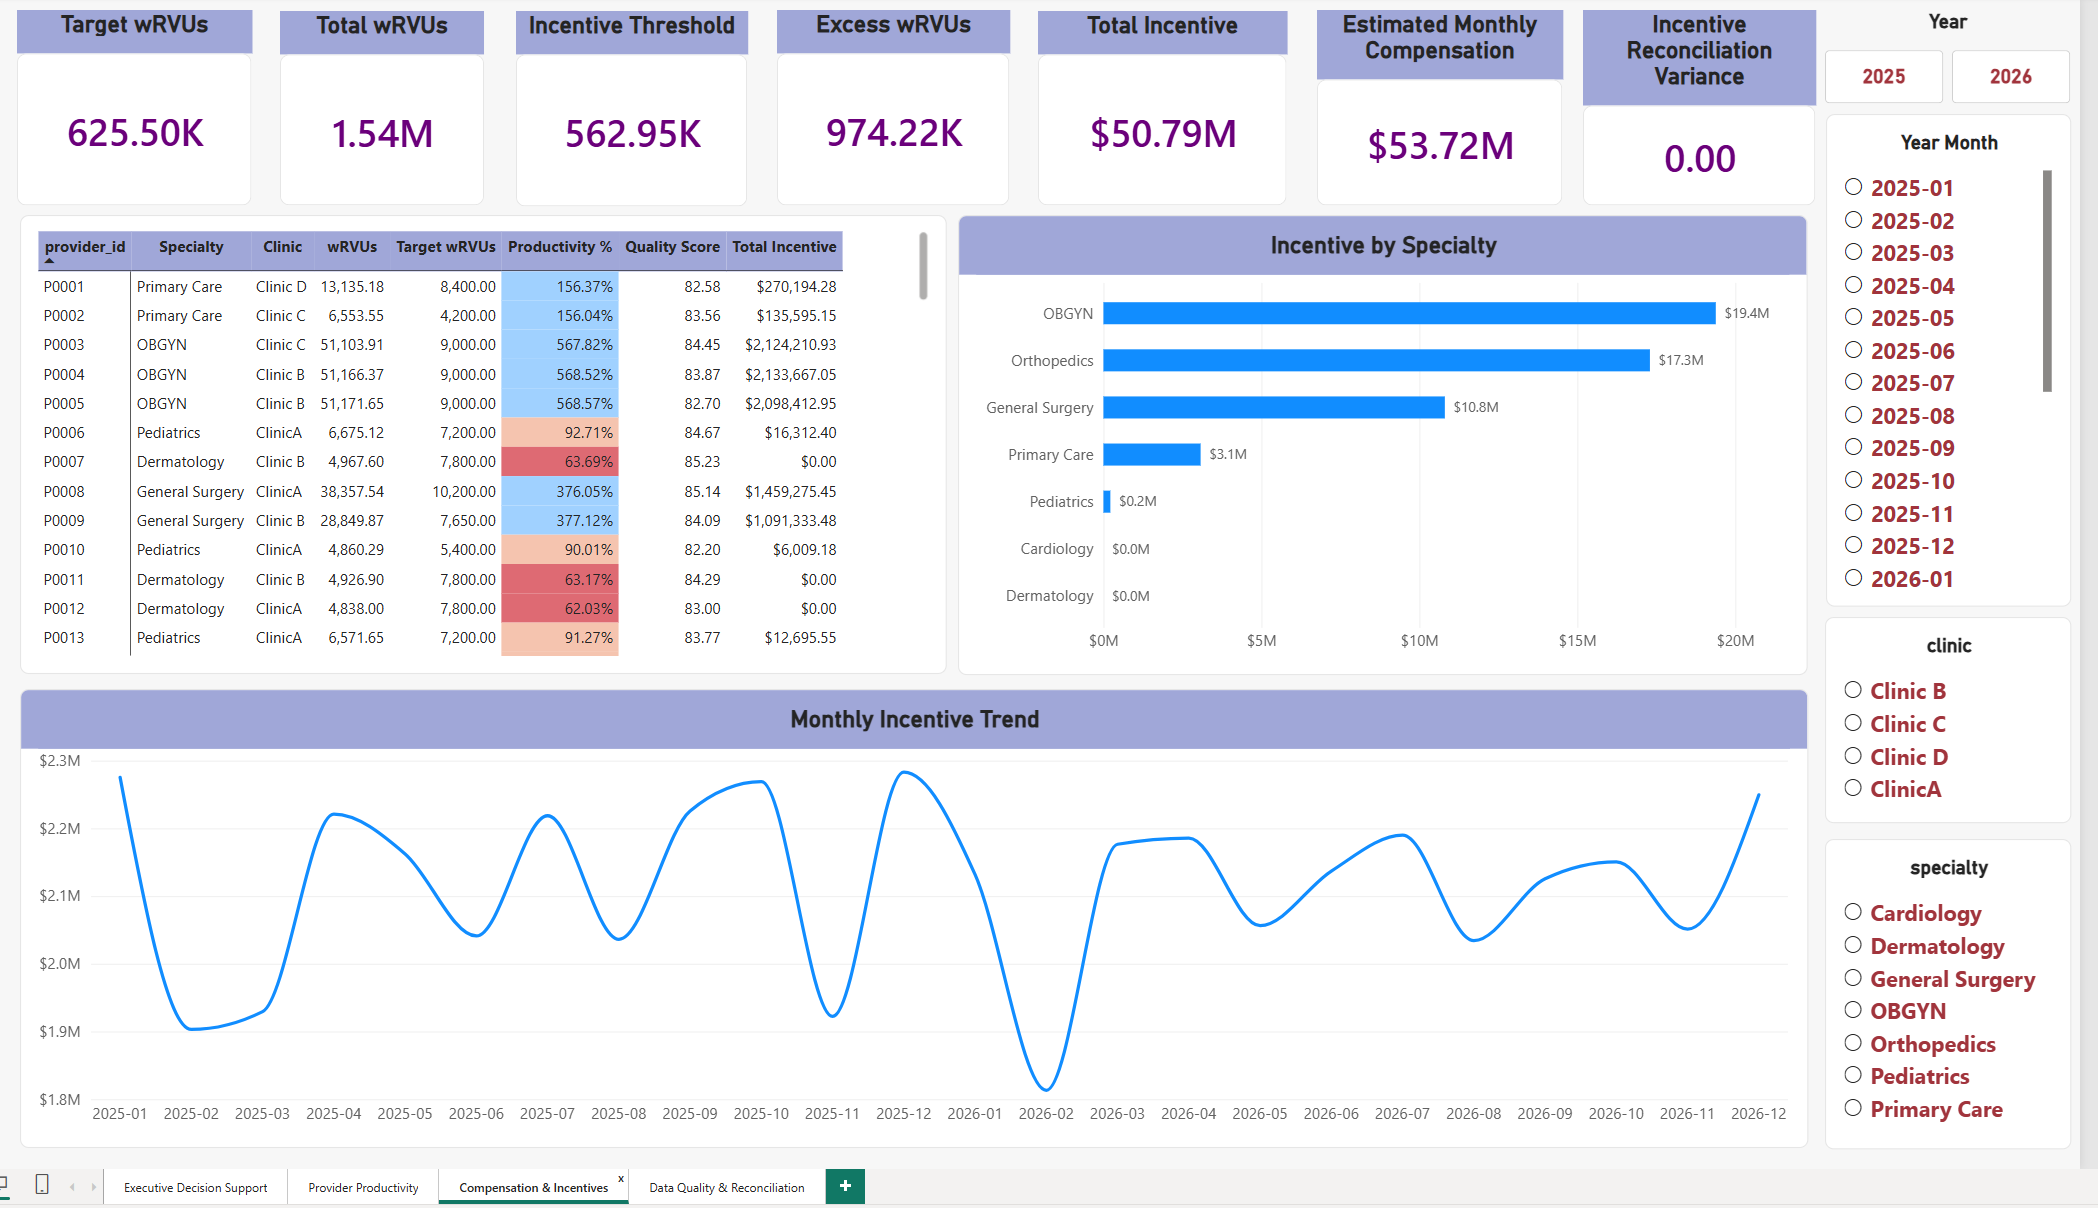

What the dashboard file says about the page in this screenshot:
{"tool":"powerbi","page":{"name":"Compensation & Incentives","canvas":[1920,1080],"ordinal":2},"visuals":[{"type":"pivotTable","fields":{"Rows":["dim_providers.provider_id"],"Values":["Min(dim_providers.specialty)","Min(dim_providers.clinic)","fact_provider_monthly.Total wRVUs","fact_provider_monthly.Target wRVUs","fact_provider_monthly.Productivity %","fact_provider_monthly.Average Quality Score","fact_provider_monthly.Total Incentive"]},"box":[21.7,201.2,854,423.1],"z":0},{"type":"advancedSlicerVisual","fields":{"Values":["DimDate.Year"]},"box":[1685.8,11.9,227.1,86.9],"z":1000},{"type":"listSlicer","fields":{"Values":["DimDate.Year Month"]},"box":[1686.3,107.5,225.8,453.6],"z":2000},{"type":"listSlicer","fields":{"Values":["dim_providers.specialty"]},"box":[1685.3,775.8,227.1,285.8],"z":3000},{"type":"listSlicer","fields":{"Values":["dim_providers.clinic"]},"box":[1685.3,571.5,227.1,190.2],"z":4000},{"type":"clusteredBarChart","title":"Incentive by Specialty","fields":{"Category":["fact_provider_monthly.specialty"],"Y":["fact_provider_monthly.Total Incentive"]},"box":[886.5,200.9,783.3,423.9],"z":5000},{"type":"cardVisual","title":"Target wRVUs","fields":{"Data":["fact_provider_monthly.Target wRVUs"]},"box":[19.7,11.8,216.9,180.5],"z":7000},{"type":"cardVisual","title":"Total wRVUs","fields":{"Data":["fact_provider_monthly.Total wRVUs"]},"box":[261.3,12.8,188.4,179.5],"z":8000},{"type":"cardVisual","title":"Incentive Threshold","fields":{"Data":["fact_provider_monthly.Incentive Threshold wRVUs"]},"box":[479.3,12.8,214,180.5],"z":9000},{"type":"cardVisual","title":"Excess wRVUs","fields":{"Data":["fact_provider_monthly.Excess wRVUs"]},"box":[719.9,11.8,215,180.5],"z":10000},{"type":"cardVisual","title":"Total Incentive ","fields":{"Data":["fact_provider_monthly.Total Incentive"]},"box":[960.5,12.8,229.8,179.5],"z":11000},{"type":"cardVisual","title":"Estimated Monthly Compensation","fields":{"Data":["fact_provider_monthly.Estimated Monthly Total Compensation"]},"box":[1216.9,11.8,226.8,180.5],"z":12000},{"type":"cardVisual","title":"Incentive Reconciliation Variance","fields":{"Data":["fact_provider_monthly.Incentive Reconciliation Variance"]},"box":[1462.4,11.8,215,180.5],"z":13000},{"type":"lineChart","title":"Monthly Incentive Trend","fields":{"Category":["DimDate.Year Month"],"Y":["fact_provider_monthly.Total Incentive"]},"box":[22.1,637.7,1647.6,423],"z":14000}]}

Visuals, with their boxes on the page's 1920x1080 design canvas (x1, y1, x2, y2). These are canvas units, not pixel positions in the 2098x1208 screenshot, which may show the page scaled, cropped or inside an application window:
pivotTable - dim_providers.provider_id x Min(dim_providers.specialty): 22/201/876/624
advancedSlicerVisual - DimDate.Year: 1686/12/1913/99
listSlicer - DimDate.Year Month: 1686/108/1912/561
listSlicer - dim_providers.specialty: 1685/776/1912/1062
listSlicer - dim_providers.clinic: 1685/572/1912/762
"Incentive by Specialty" clusteredBarChart: 886/201/1670/625
"Target wRVUs" cardVisual: 20/12/237/192
"Total wRVUs" cardVisual: 261/13/450/192
"Incentive Threshold" cardVisual: 479/13/693/193
"Excess wRVUs" cardVisual: 720/12/935/192
"Total Incentive " cardVisual: 960/13/1190/192
"Estimated Monthly Compensation" cardVisual: 1217/12/1444/192
"Incentive Reconciliation Variance" cardVisual: 1462/12/1677/192
"Monthly Incentive Trend" lineChart: 22/638/1670/1061
